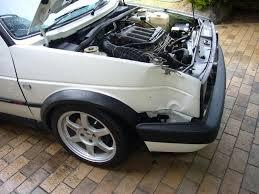fender-dent: (80, 64, 206, 130)
